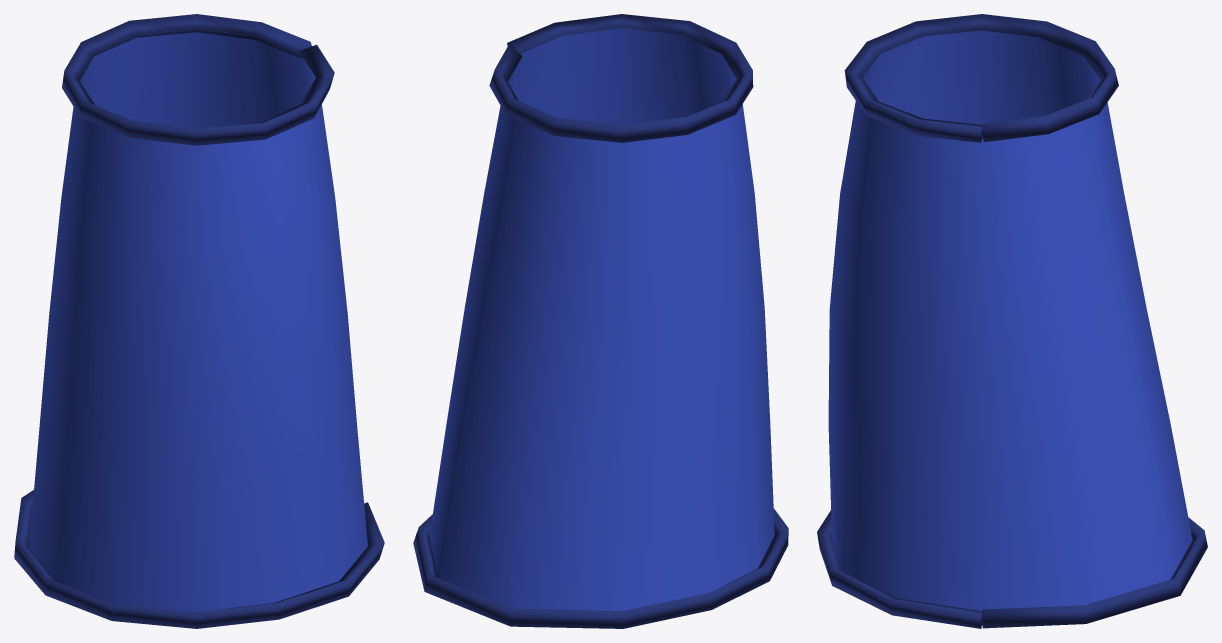
The model's file is shroomite_armor_cuisse.L.glb.
3 views of the same model, side by side, from view 1: azimuth 30°, elevation 25°; view 2: azimuth 150°, elevation 25°; view 3: azimuth 270°, elevation 25° (orthographic). The views are drawn at different scales.
Parts seen in each view (by area): view 1: shroomite_armor_cuisse.L; view 2: shroomite_armor_cuisse.L; view 3: shroomite_armor_cuisse.L.
Boxes of the visible parts, <box> form: shroomite_armor_cuisse.L: <box>14,14,384,628</box>; shroomite_armor_cuisse.L: <box>413,14,788,628</box>; shroomite_armor_cuisse.L: <box>817,14,1207,628</box>.
Size of the model in its own units: 0.2653 by 0.3856 by 0.284.
